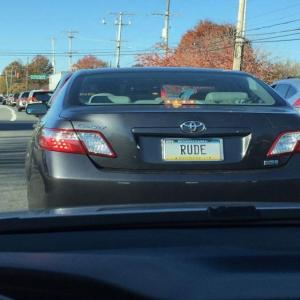Plate: (163, 138, 224, 162)
